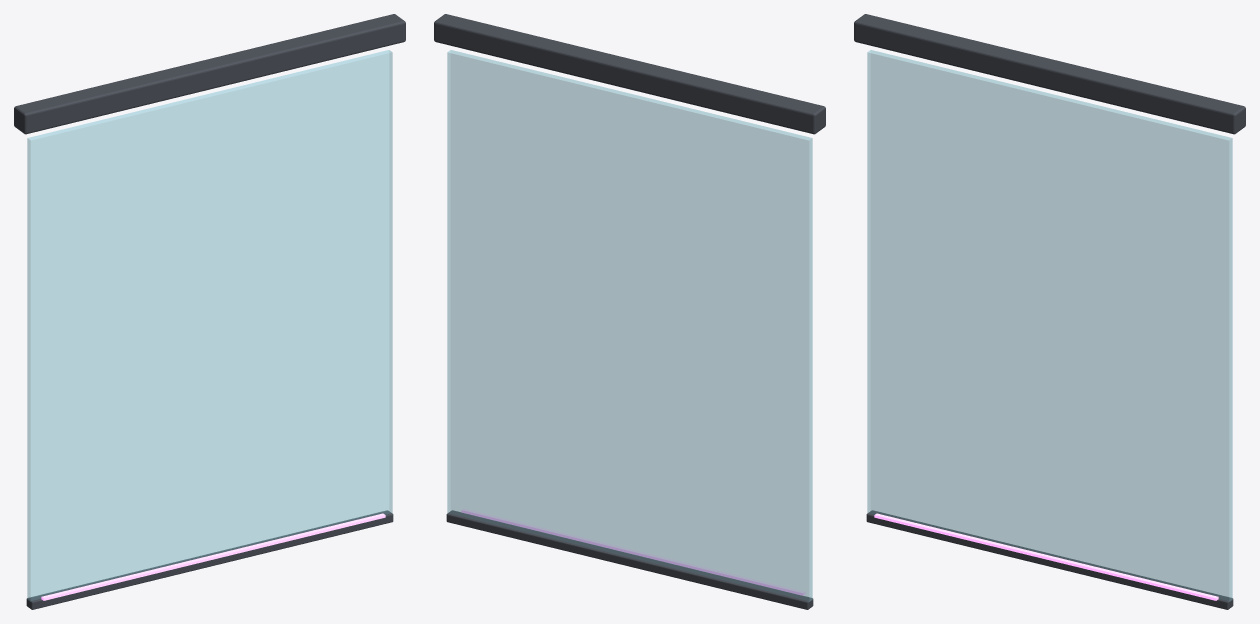
The model's file is curtains_smart_glass.glb.
3 renders of one model, left to right at view 1: azimuth 30°, elevation 25°; view 2: azimuth 150°, elevation 25°; view 3: azimuth 330°, elevation 25°, orthographic.
Parts seen in each view (by area): view 1: GD_curtains_smart_glass__m1, GD_curtains_smart_glass__m0, GD_curtains_smart_glass__m2; view 2: GD_curtains_smart_glass__m1, GD_curtains_smart_glass__m0, GD_curtains_smart_glass__m2; view 3: GD_curtains_smart_glass__m1, GD_curtains_smart_glass__m0, GD_curtains_smart_glass__m2.
Part boxes in pixels (x1=…): GD_curtains_smart_glass__m1: x1=27, y1=50, x2=392, y2=601; GD_curtains_smart_glass__m0: x1=14, y1=14, x2=405, y2=609; GD_curtains_smart_glass__m2: x1=41, y1=513, x2=385, y2=600; GD_curtains_smart_glass__m1: x1=447, y1=50, x2=812, y2=601; GD_curtains_smart_glass__m0: x1=434, y1=14, x2=825, y2=609; GD_curtains_smart_glass__m2: x1=461, y1=508, x2=805, y2=595; GD_curtains_smart_glass__m1: x1=867, y1=50, x2=1232, y2=601; GD_curtains_smart_glass__m0: x1=854, y1=14, x2=1245, y2=609; GD_curtains_smart_glass__m2: x1=874, y1=513, x2=1218, y2=600.
Size of the model in its own units: 1.9 by 2.38 by 0.1.
